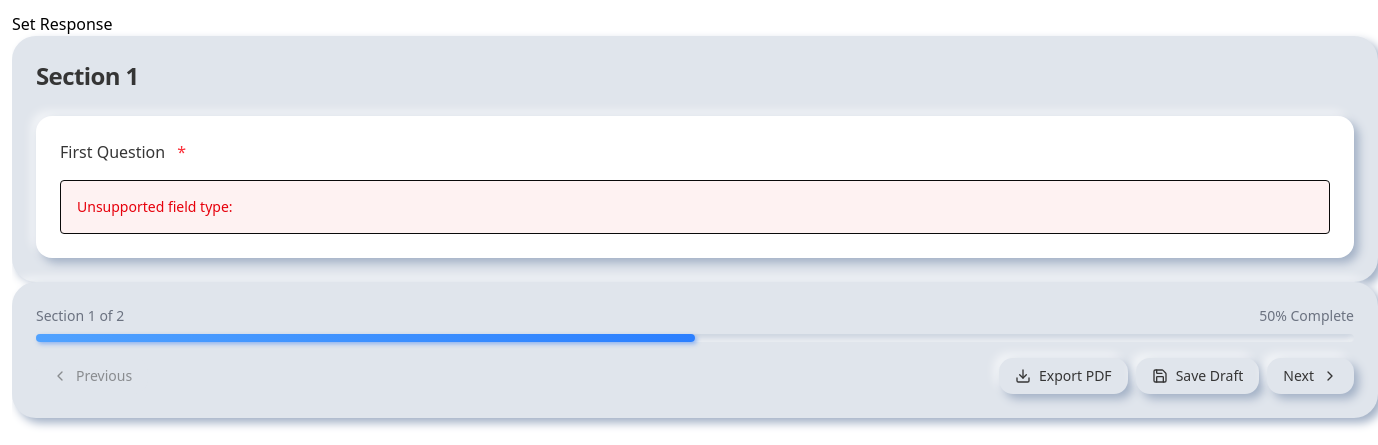
Test case: DynamicFormNavigation › updates the progress indicator when navigating sections
The image size is (1378, 445).
Expected: the text "Section 1 of 2" is shown, [36, 306, 124, 326]
What coordinates should you click on to do the following:
click the button "Next"
I would click on:
 (1311, 376)
Its box is [1267, 358, 1354, 394].
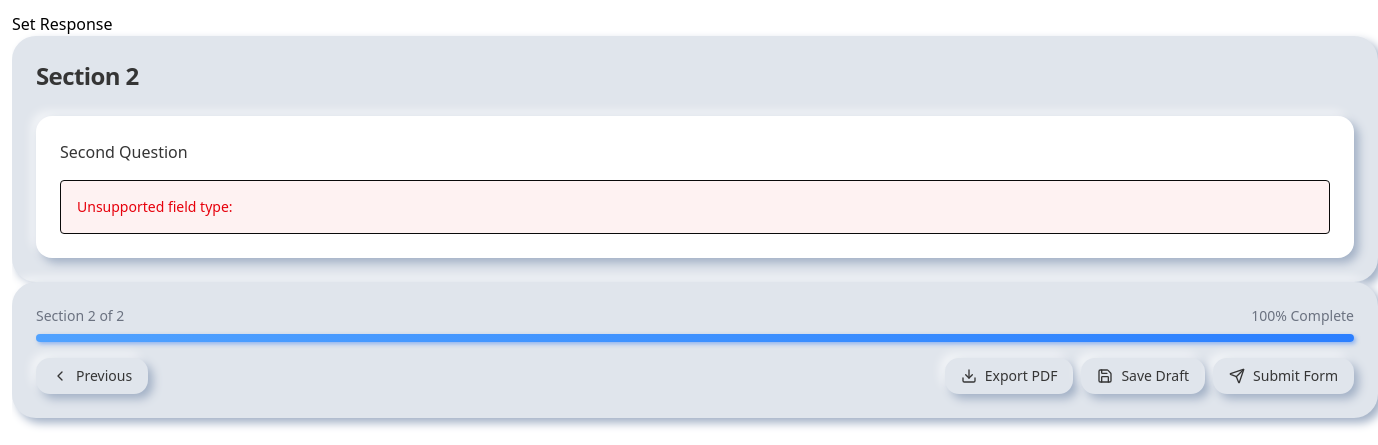
Result: the text "Section 2 of 2" is shown at [36, 306, 124, 326]
